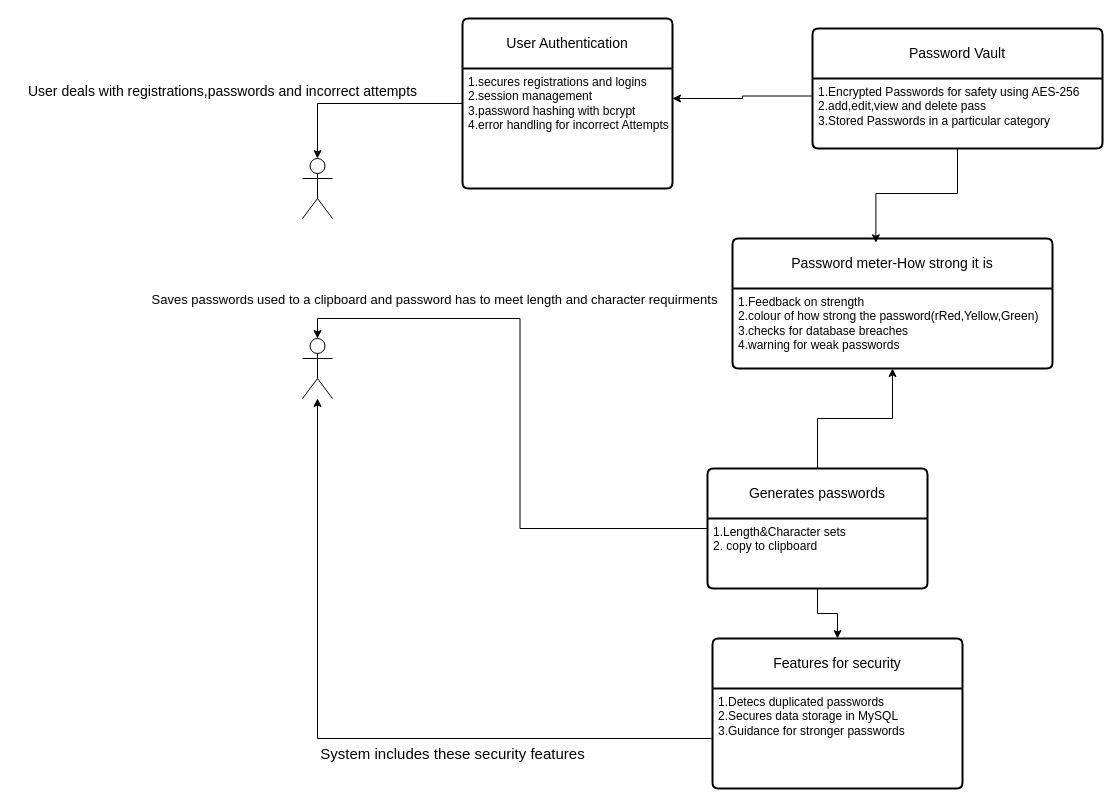
The diagram is 1120 pixels wide and 806 high, and some of its shapes have lost their labels. Here are the shapes that lost their labels. From the top down, the centre of each, then its label:
At (x=317, y=188): "User-Interacts with the system to mange passwords".
At (x=317, y=368): "System-Stores passwords and authentication".
